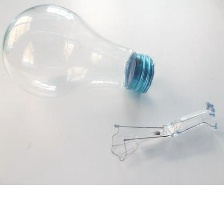light_bulb: (0, 1, 161, 105), (108, 100, 222, 163)
